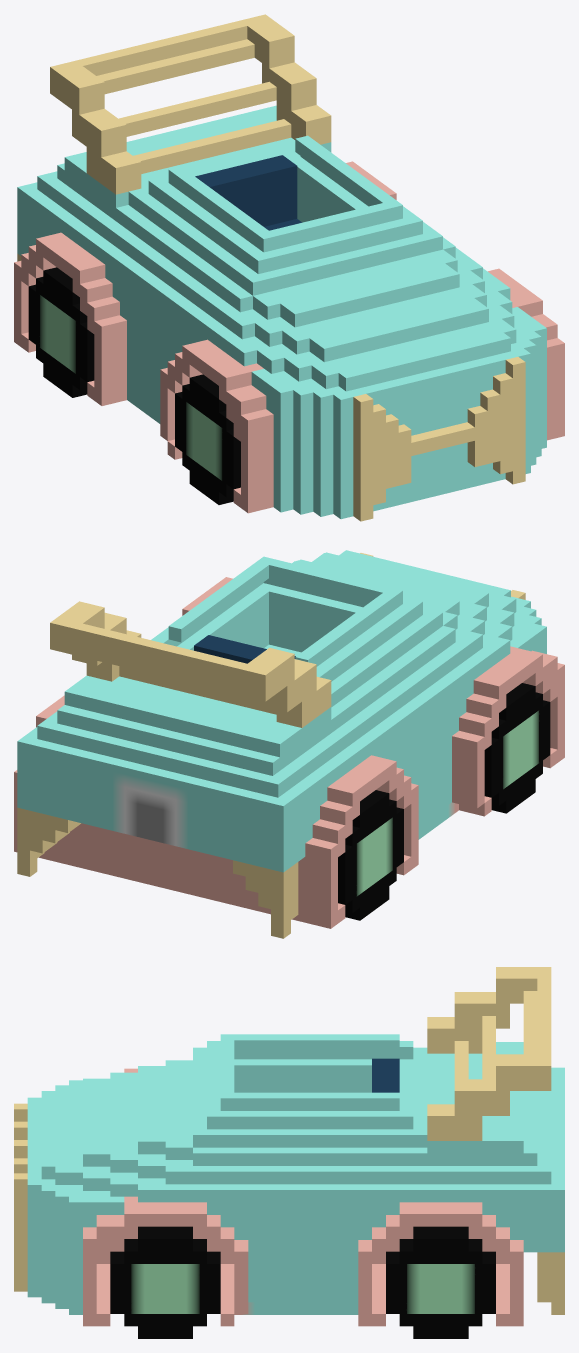
The model's file is Car_49.fbx.
3 views of the same model, one above another, from view 1: azimuth 30°, elevation 25°; view 2: azimuth 150°, elevation 25°; view 3: azimuth 270°, elevation 25° (orthographic). The views are drawn at different scales.
Parts seen in each view (by area): view 1: Car_49; view 2: Car_49; view 3: Car_49.
Part boxes in pixels (<box>): Car_49: <box>14,14,564,521</box>; Car_49: <box>14,550,564,938</box>; Car_49: <box>14,967,564,1338</box>.
Bounding box in the file's own units: 25 × 20 × 40.
Materials: 1 (1 with a texture image).
